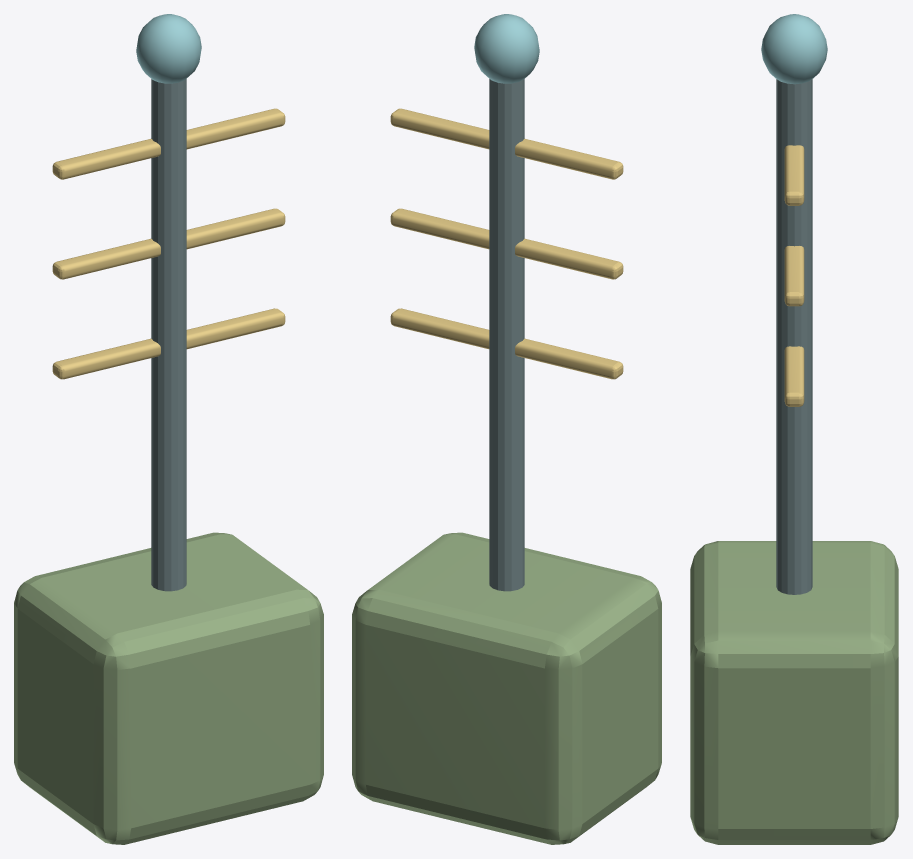
Rendered from relay_mast.glb.
3 renders of one model, left to right at view 1: azimuth 30°, elevation 25°; view 2: azimuth 150°, elevation 25°; view 3: azimuth 270°, elevation 25°, orthographic.
Visible parts, largest first — view 1: Surface_WorldOlive, Surface_WorldMetal, Surface_WorldBrass, Surface_WorldGlass; view 2: Surface_WorldOlive, Surface_WorldMetal, Surface_WorldBrass, Surface_WorldGlass; view 3: Surface_WorldOlive, Surface_WorldMetal, Surface_WorldBrass, Surface_WorldGlass.
Part boxes in pixels (x1=…): Surface_WorldOlive: x1=14, y1=532, x2=323, y2=844; Surface_WorldMetal: x1=151, y1=79, x2=186, y2=591; Surface_WorldBrass: x1=52, y1=108, x2=285, y2=379; Surface_WorldGlass: x1=136, y1=14, x2=201, y2=83; Surface_WorldOlive: x1=352, y1=532, x2=661, y2=844; Surface_WorldMetal: x1=489, y1=79, x2=524, y2=591; Surface_WorldBrass: x1=390, y1=108, x2=623, y2=379; Surface_WorldGlass: x1=474, y1=14, x2=539, y2=83; Surface_WorldOlive: x1=690, y1=541, x2=898, y2=844; Surface_WorldMetal: x1=776, y1=79, x2=812, y2=594; Surface_WorldBrass: x1=784, y1=145, x2=804, y2=406; Surface_WorldGlass: x1=761, y1=14, x2=827, y2=84.
Size of the model in its own units: 0.95 by 3.11 by 0.75.
